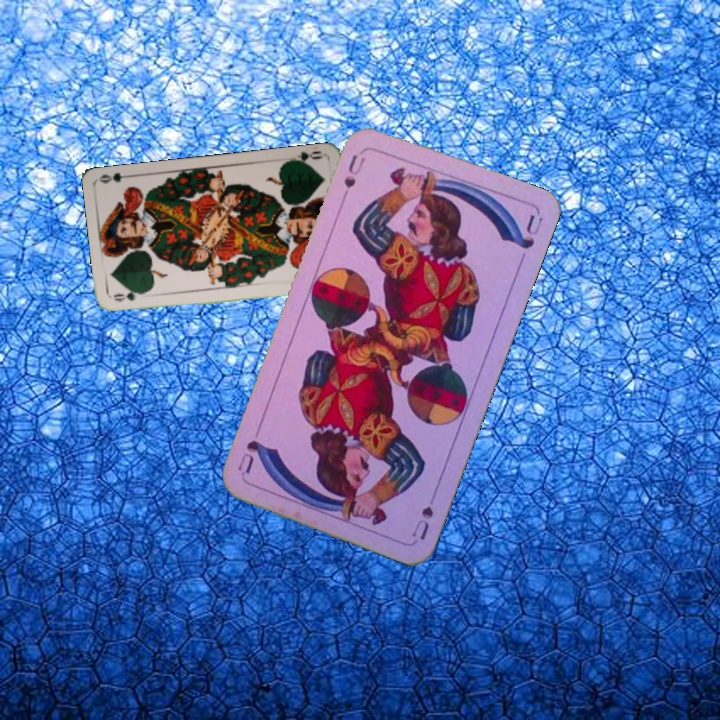GO: (284, 147, 324, 167), (109, 287, 149, 304)
SU: (408, 484, 441, 543), (337, 150, 368, 204)
